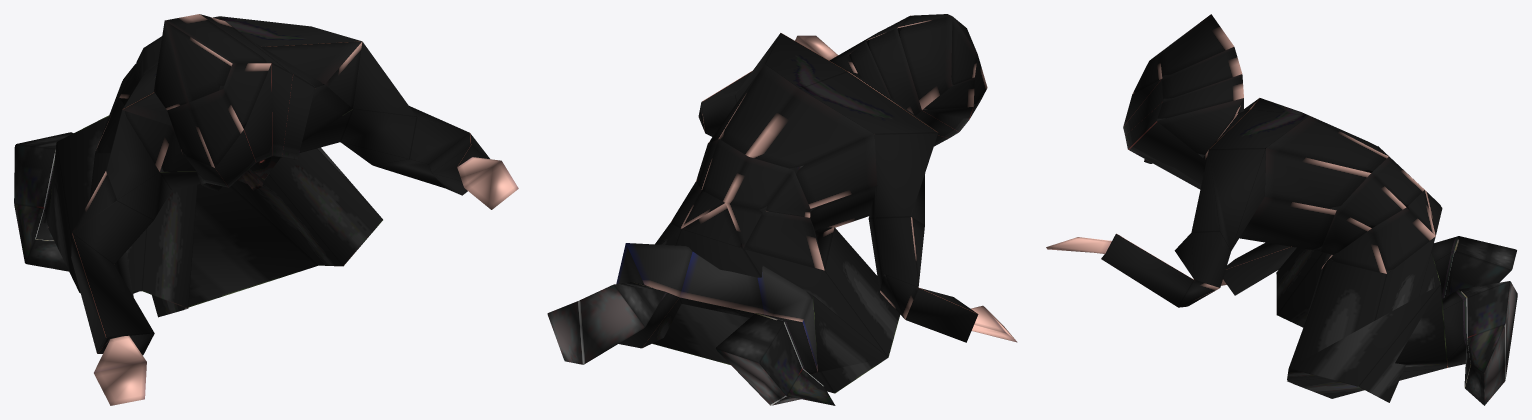
The picture shows the model from 3 angles, left to right: view 1: azimuth 30°, elevation 25°; view 2: azimuth 150°, elevation 25°; view 3: azimuth 270°, elevation 25°; orthographic projection. The views are drawn at different scales.
Parts seen in each view (by area): view 1: T1L6M006_1; view 2: T1L6M006_1; view 3: T1L6M006_1.
Boxes of the visible parts, box(x1,y1,x2,y2) form: T1L6M006_1: box(14, 14, 518, 405); T1L6M006_1: box(547, 14, 1017, 405); T1L6M006_1: box(1046, 14, 1517, 405).
Size of the model in its own units: 1.14 by 1.07 by 1.51.
